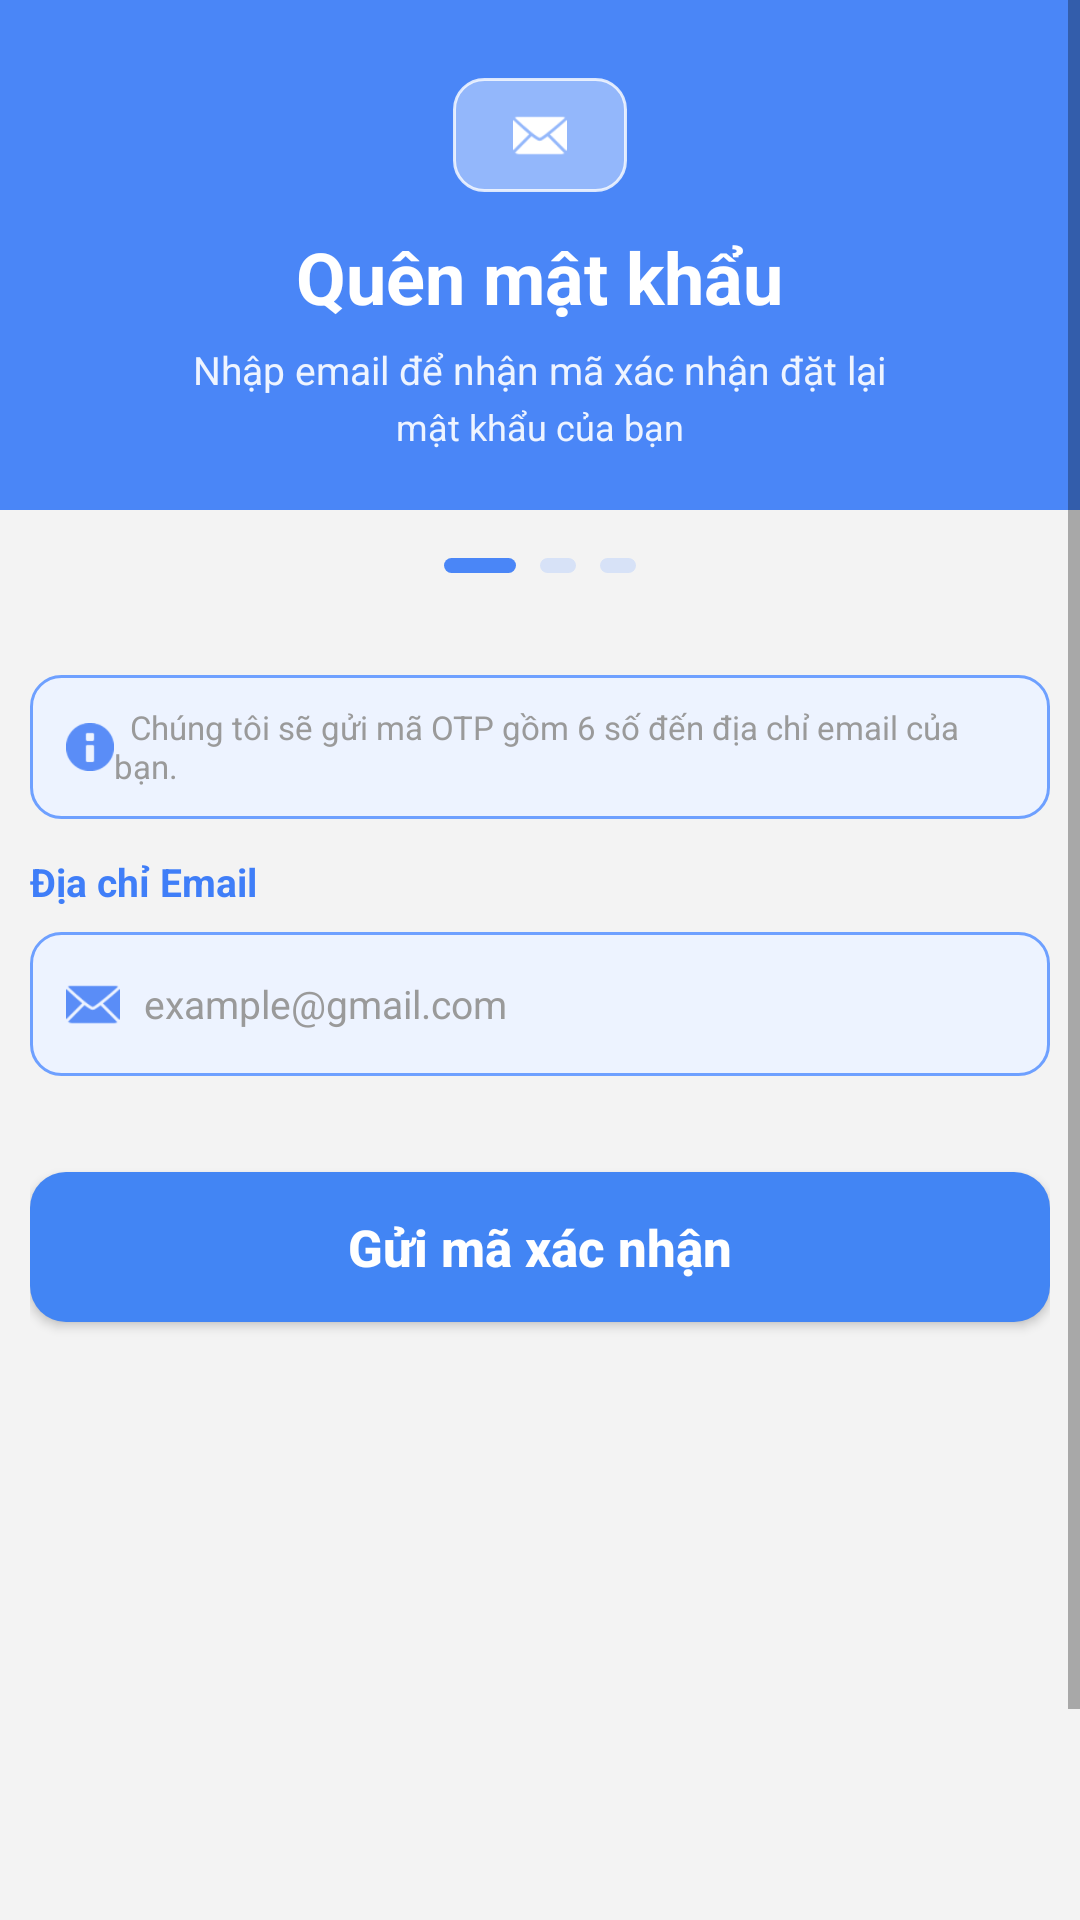

Icon bounding boxes for this 1080w x 1920h phone screenshot, format (x1=x1, y1=y1, x2=x2, y2=y2):
info: (x1=66, y1=723, x2=114, y2=771)
